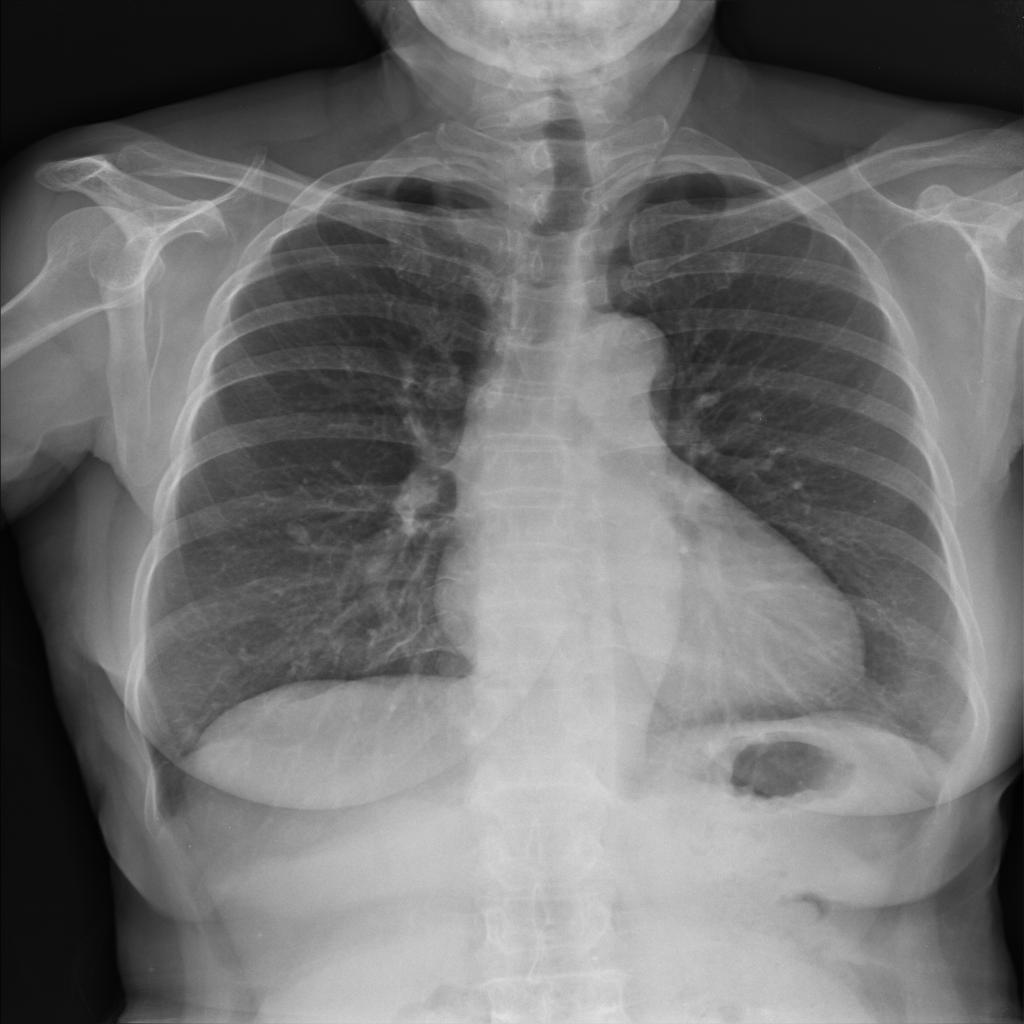Nodule: (285, 521, 312, 547)
